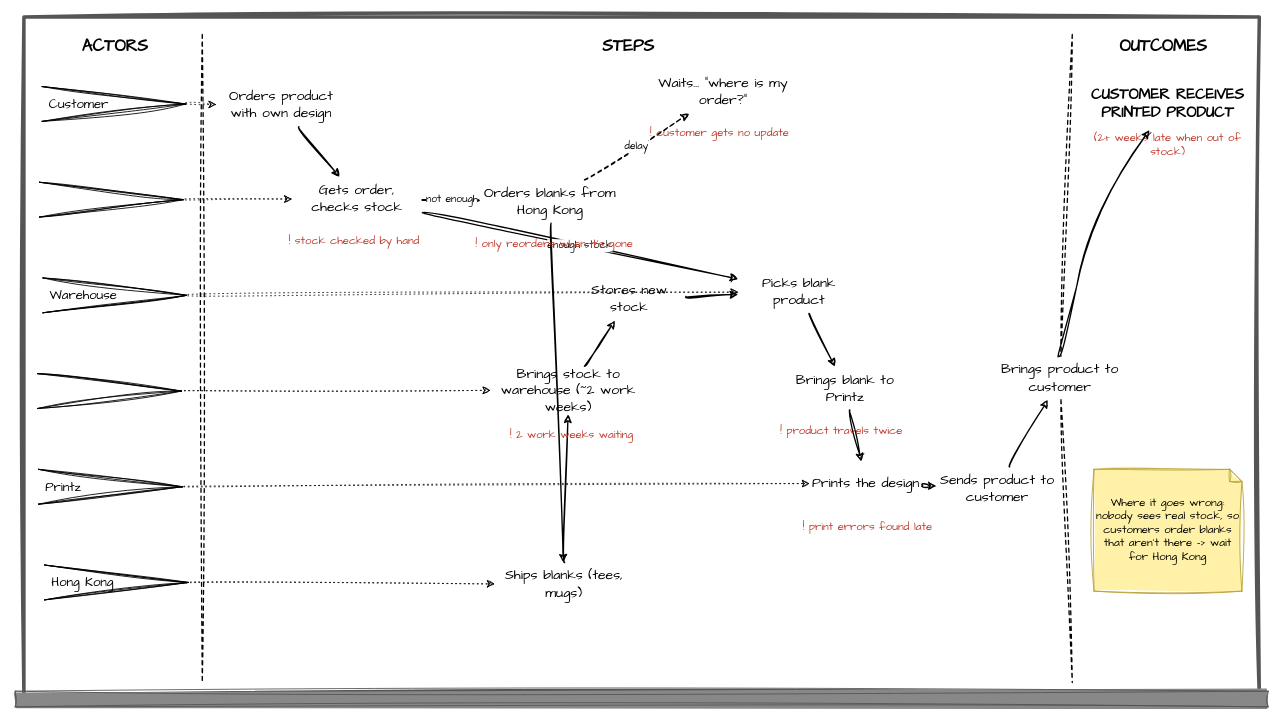
The diagram is 1283 pixels wide and 722 high, and some of its shapes have lost their labels. The shapes that lost their labels are listed below. From the top down, each one's centre as x and y in pixels, then its label:
point (111, 199): Webshop (owner)
point (109, 390): DHL
